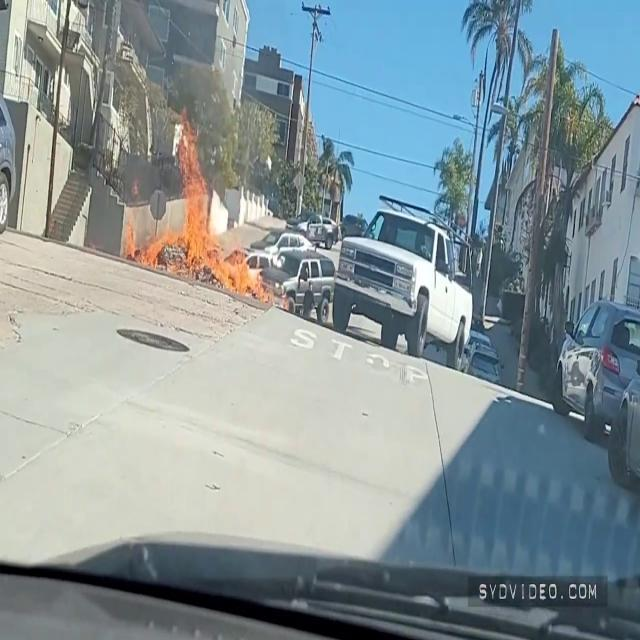Fire: (129, 110, 263, 294), (212, 241, 264, 300)
